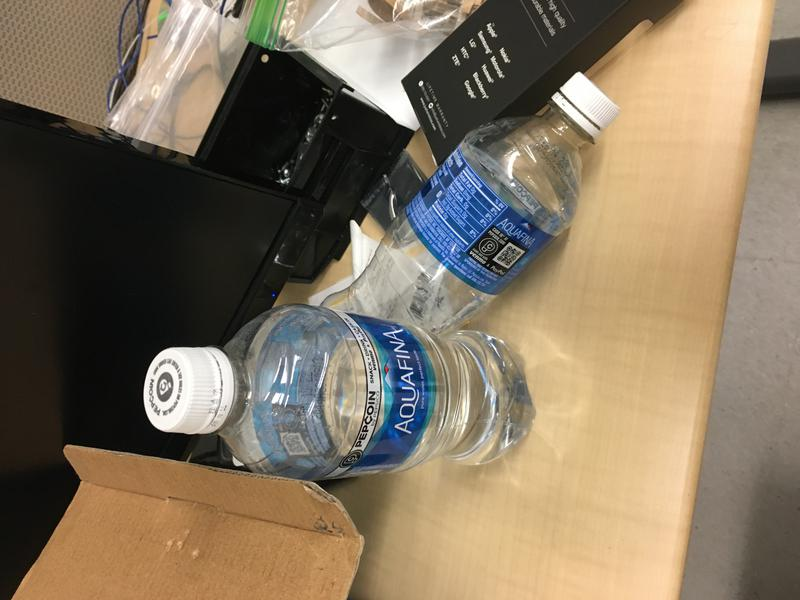bottle: (320, 69, 620, 331), (140, 305, 540, 484)
